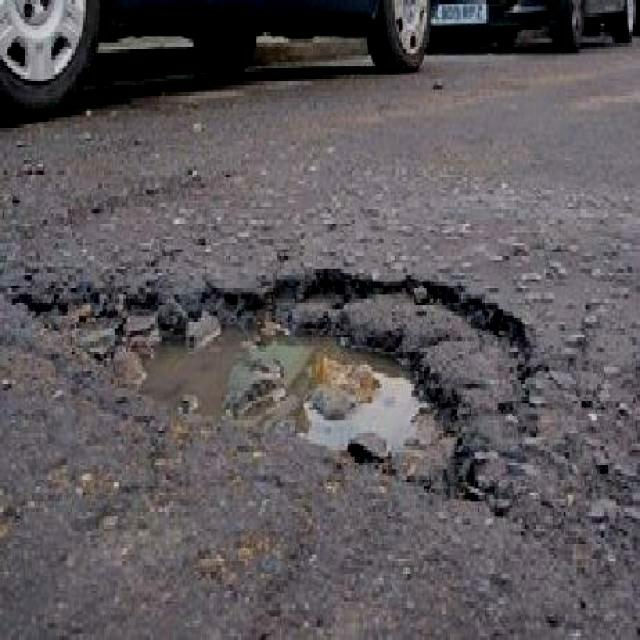Pothole: (11, 260, 535, 525)
